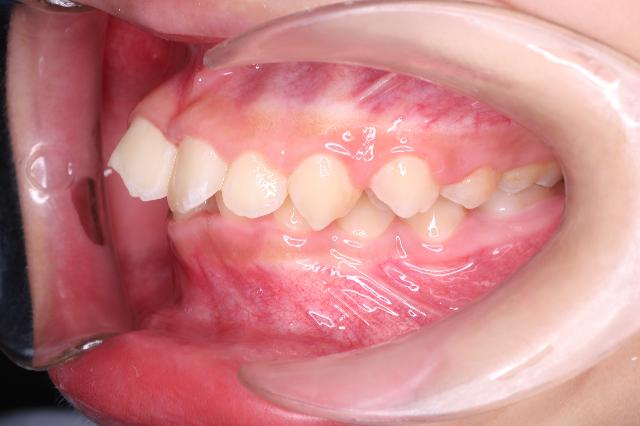canine class I: (274, 152, 394, 248)
molar class I: (482, 158, 562, 230)
